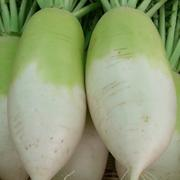radish: (24, 0, 50, 50), (2, 1, 24, 51)
